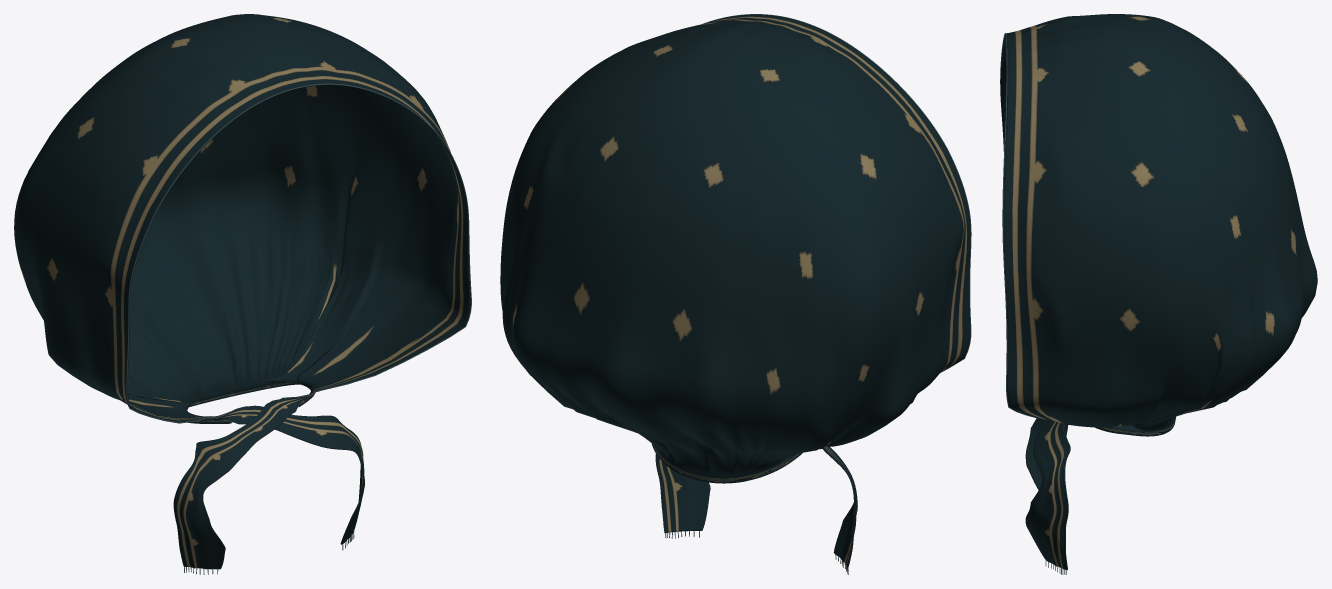
File: Feminine-bob-triangle-pashmina249-headgear.glb
3 renders of one model, left to right at view 1: azimuth 30°, elevation 25°; view 2: azimuth 150°, elevation 25°; view 3: azimuth 270°, elevation 25°, orthographic. The views are drawn at different scales.
Parts seen in each view (by area): view 1: 226 headgear / Headwear / continuous woven pashmina239, 226 headgear / Headwear / face edge239; view 2: 226 headgear / Headwear / continuous woven pashmina239, 226 headgear / Headwear / face edge239; view 3: 226 headgear / Headwear / continuous woven pashmina239, 226 headgear / Headwear / face edge239.
Part boxes in pixels (x1,y1,x2,y2): 226 headgear / Headwear / continuous woven pashmina239: (14, 14, 470, 569); 226 headgear / Headwear / face edge239: (126, 83, 471, 423); 226 headgear / Headwear / continuous woven pashmina239: (500, 14, 970, 568); 226 headgear / Headwear / face edge239: (703, 14, 971, 372); 226 headgear / Headwear / continuous woven pashmina239: (1000, 14, 1317, 570); 226 headgear / Headwear / face edge239: (1000, 33, 1045, 419).
Size of the model in its own units: 1.08 by 1.41 by 0.806.
Materials: 3 (1 with a texture image).
